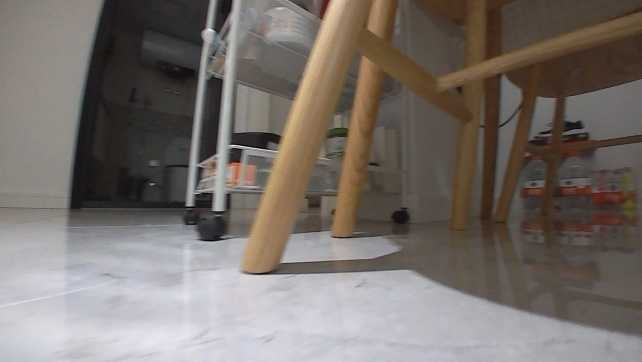dining_table1: (237, 4, 639, 275)
toilet: (162, 135, 196, 204)
